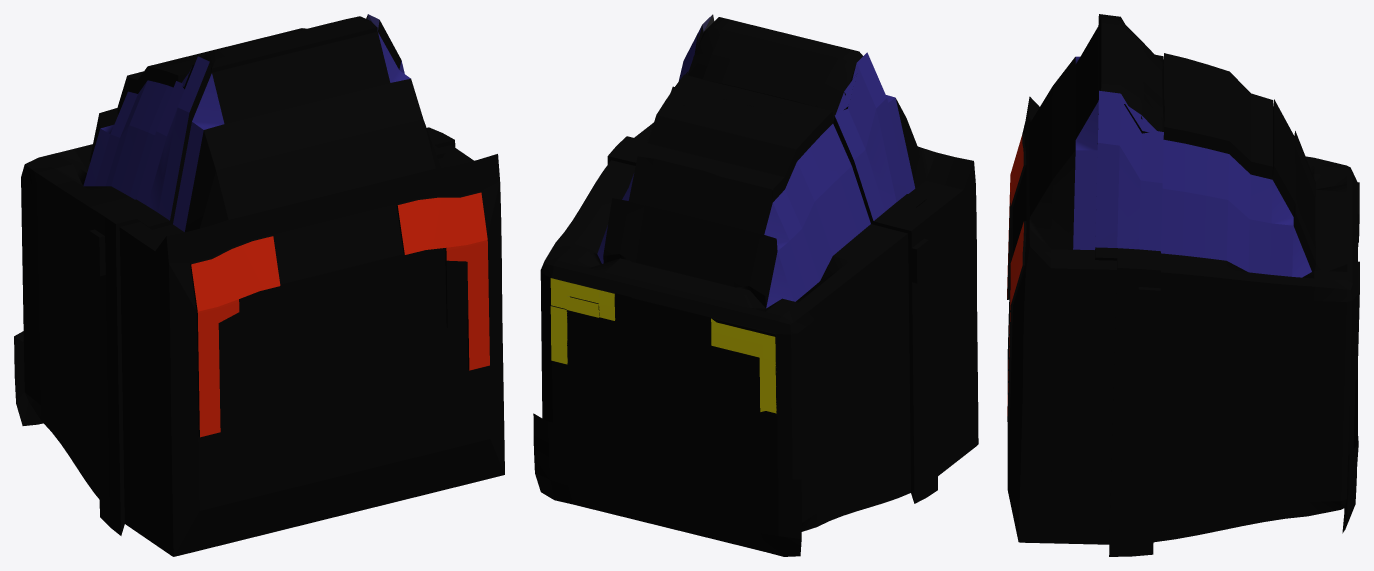
The model's file is car_1.fbx.
3 renders of one model, left to right at view 1: azimuth 30°, elevation 25°; view 2: azimuth 150°, elevation 25°; view 3: azimuth 270°, elevation 25°, orthographic. The views are drawn at different scales.
Parts seen in each view (by area): view 1: car:pCube1; view 2: car:pCube1; view 3: car:pCube1.
Part boxes in pixels (bbox=[...]): car:pCube1: bbox=[14, 14, 504, 556]; car:pCube1: bbox=[533, 14, 978, 556]; car:pCube1: bbox=[1007, 14, 1359, 556].
Bounding box in the file's own units: 1.11 × 1.39 × 1.04.
